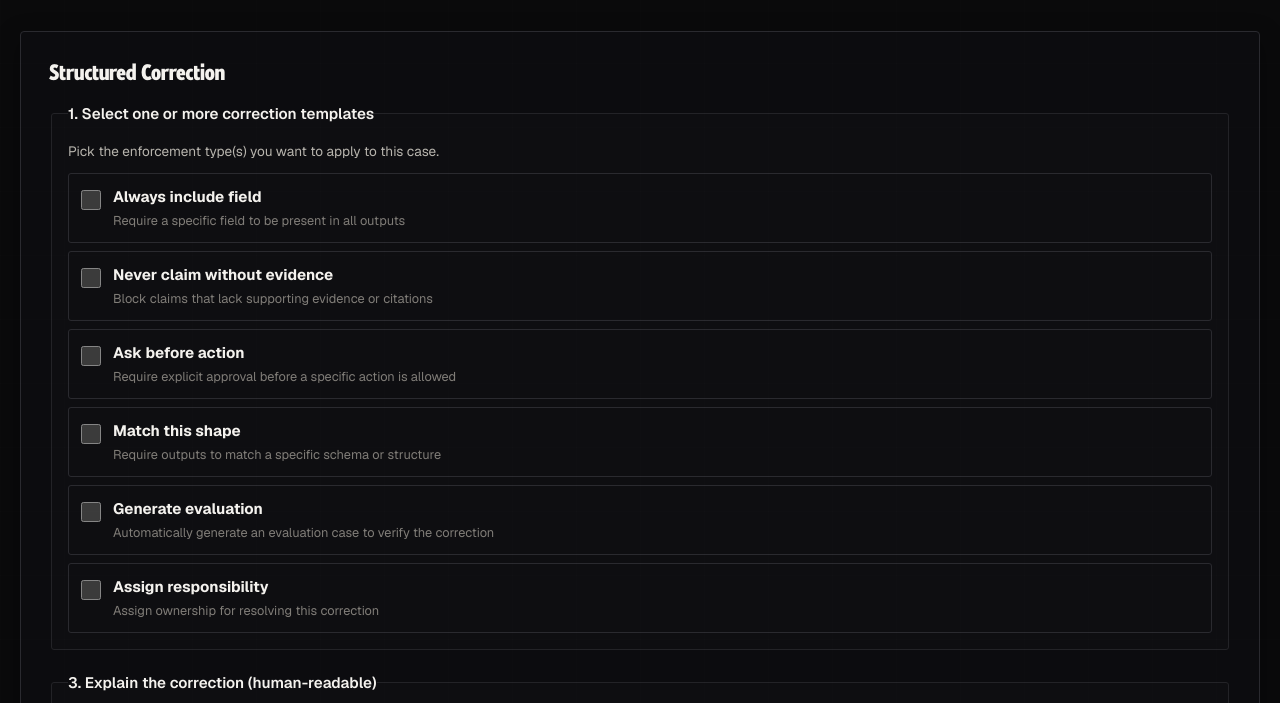
Test case: CorrectionTemplateForm › field validation › shows error when submitting with empty reason
The width and height of the screenshot is (1280, 703).
Step 1. Click the checkbox labelled "Always include field" → [91, 200], box [81,190,101,210]
(page scrolled)
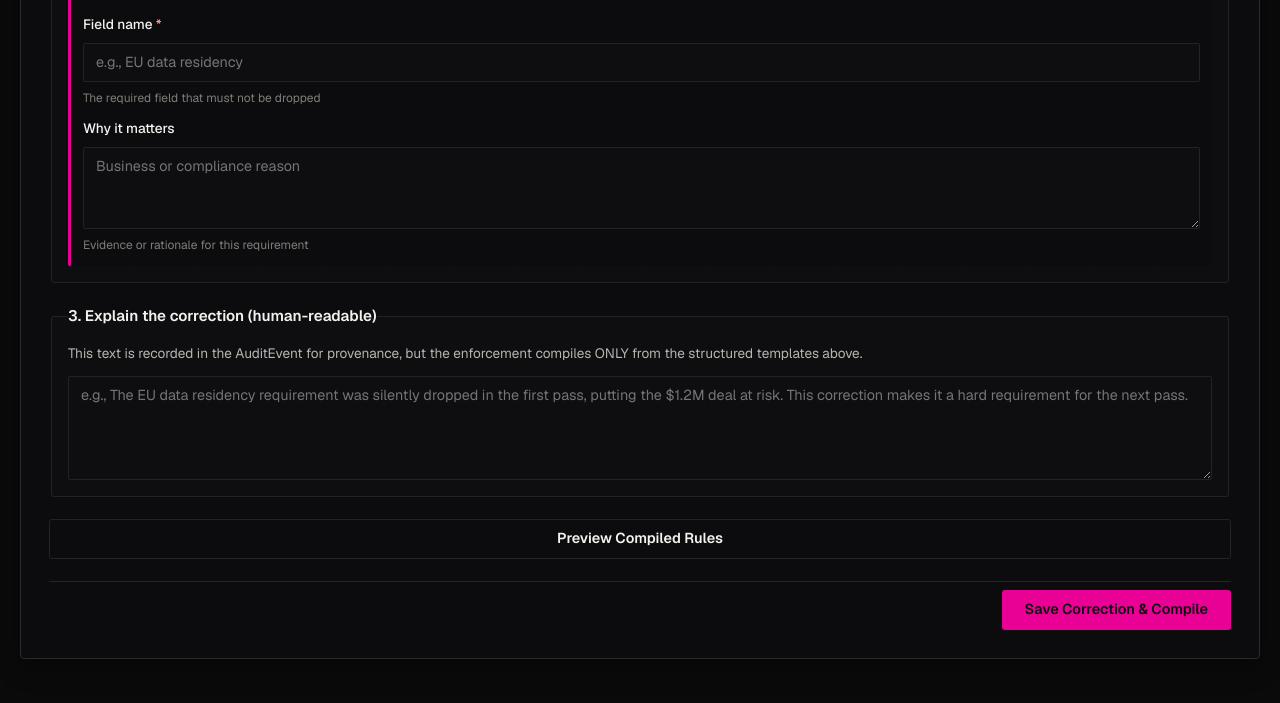
Step 2. Click the button "Save Correction & Compile" → [1116, 610], box [1002,590,1231,630]
(page scrolled)
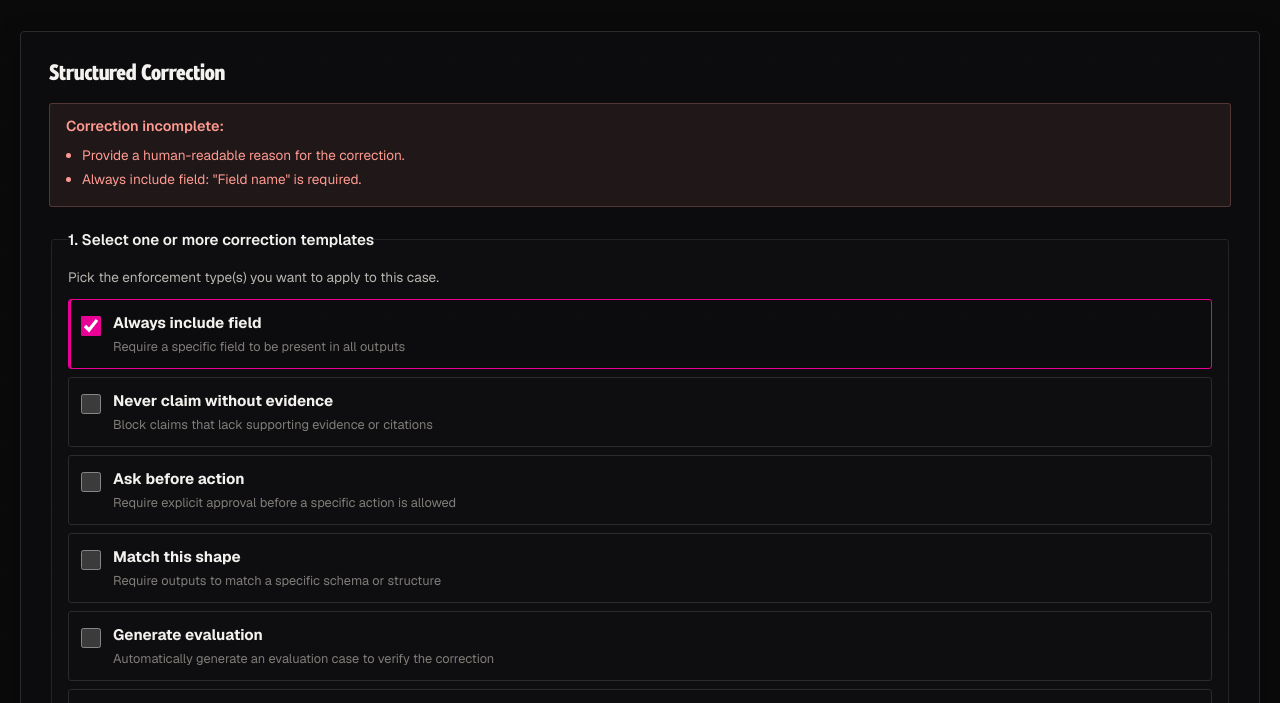
expect the list item "Provide a human-readable reason for the correction." is shown: met, box [82,146,405,164]
